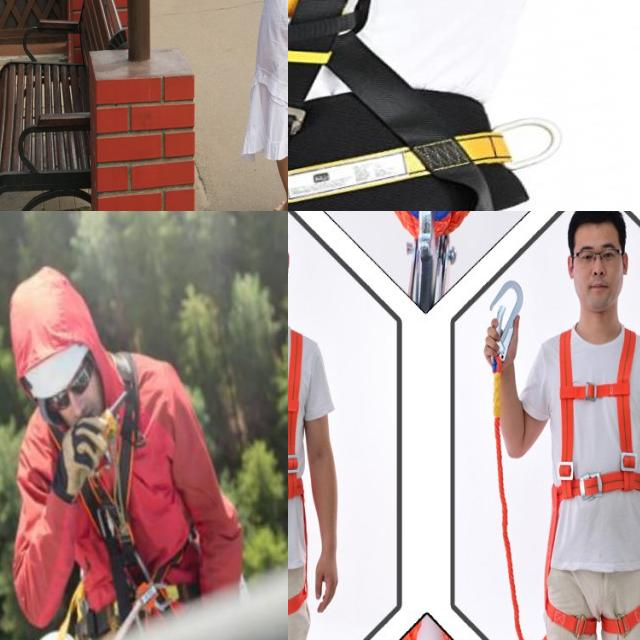Barefoots: (273, 200, 288, 211)
Harness: (288, 0, 529, 211), (546, 324, 640, 640), (55, 414, 152, 622)
